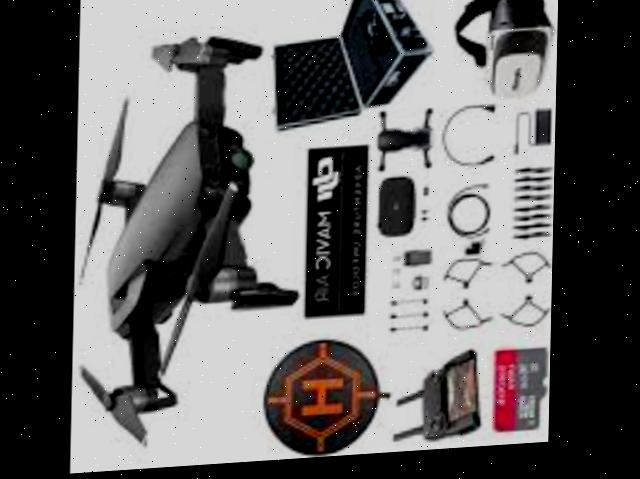drone: (73, 20, 315, 460)
